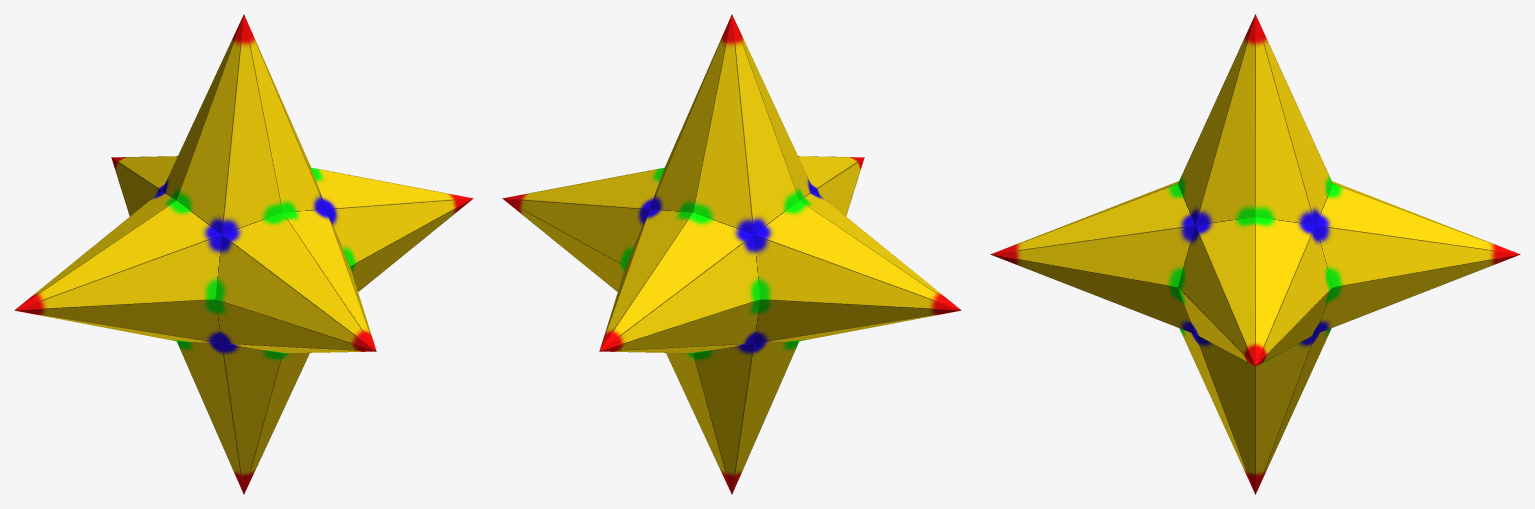
File: small-rhombihexacron.gltf
3 views of the same model, side by side, from view 1: azimuth 30°, elevation 25°; view 2: azimuth 150°, elevation 25°; view 3: azimuth 270°, elevation 25° (orthographic).
Parts seen in each view (by area): view 1: Small Rhombihexacron (Dual of 8.4.8/7.4/3), WD86, p57; view 2: Small Rhombihexacron (Dual of 8.4.8/7.4/3), WD86, p57; view 3: Small Rhombihexacron (Dual of 8.4.8/7.4/3), WD86, p57.
Part boxes in pixels (left/top/right/bottom): Small Rhombihexacron (Dual of 8.4.8/7.4/3), WD86, p57: left=14, top=14, right=473, bottom=494; Small Rhombihexacron (Dual of 8.4.8/7.4/3), WD86, p57: left=502, top=14, right=961, bottom=494; Small Rhombihexacron (Dual of 8.4.8/7.4/3), WD86, p57: left=990, top=14, right=1520, bottom=494.
Size of the model in its own units: 67.63 by 67.63 by 67.63.
1 material, 1 textured.
